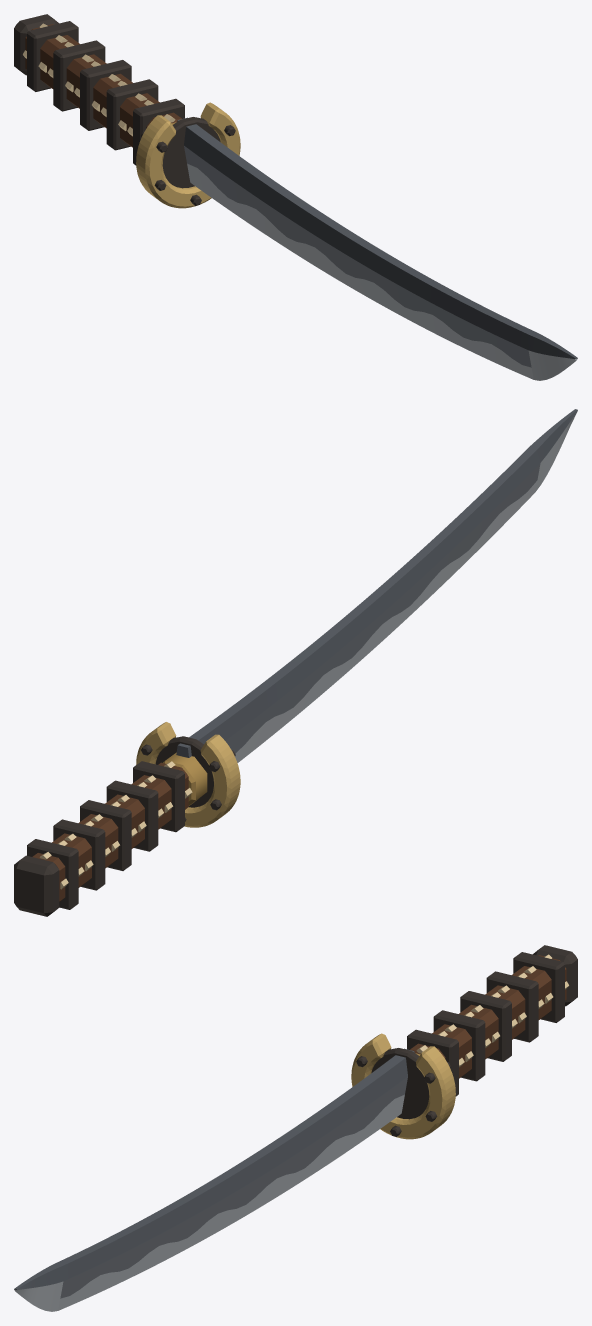
Rendered from w_katana@katana_dust.glb.
3 views of the same model, one above another, from view 1: azimuth 30°, elevation 25°; view 2: azimuth 150°, elevation 25°; view 3: azimuth 330°, elevation 25° (orthographic).
Visible parts, largest first — view 1: kat_blade_wzB__spine__p565b62, kat_trims_wzN__metal__p3b3531, kat_blade_wzB__edge__pb5babf, kat_blade_wzB__steel__p767b82, kat_guard_wzN__brass2__pc4a463, kat_tsuka_wzA__wrap__p5a3a26, kat_guard_wzN__metal__p3b3531, kat_tsuka_wzN__stitch__pd8c39a, kat_tsuka_wzN__metal__p3b3531; view 2: kat_blade_wzB__spine__p565b62, kat_trims_wzN__metal__p3b3531, kat_blade_wzB__edge__pb5babf, kat_blade_wzB__steel__p767b82, kat_tsuka_wzA__wrap__p5a3a26, kat_guard_wzN__brass2__pc4a463, kat_tsuka_wzN__metal__p3b3531, kat_guard_wzN__metal__p3b3531, kat_tsuka_wzN__stitch__pd8c39a, kat_guard_wzN__brass__pa8874a; view 3: kat_blade_wzB__spine__p565b62, kat_trims_wzN__metal__p3b3531, kat_blade_wzB__edge__pb5babf, kat_blade_wzB__steel__p767b82, kat_guard_wzN__brass2__pc4a463, kat_tsuka_wzA__wrap__p5a3a26, kat_guard_wzN__metal__p3b3531, kat_tsuka_wzN__stitch__pd8c39a, kat_tsuka_wzN__metal__p3b3531.
Part boxes in pixels (x1=…): kat_blade_wzB__spine__p565b62: x1=177, y1=117, x2=577, y2=359; kat_trims_wzN__metal__p3b3531: x1=27, y1=21, x2=184, y2=165; kat_blade_wzB__edge__pb5babf: x1=187, y1=163, x2=577, y2=380; kat_blade_wzB__steel__p767b82: x1=184, y1=146, x2=531, y2=367; kat_guard_wzN__brass2__pc4a463: x1=136, y1=102, x2=240, y2=208; kat_tsuka_wzA__wrap__p5a3a26: x1=25, y1=24, x2=181, y2=147; kat_guard_wzN__metal__p3b3531: x1=141, y1=117, x2=235, y2=205; kat_tsuka_wzN__stitch__pd8c39a: x1=23, y1=23, x2=175, y2=136; kat_tsuka_wzN__metal__p3b3531: x1=14, y1=14, x2=58, y2=75; kat_blade_wzB__spine__p565b62: x1=176, y1=409, x2=577, y2=757; kat_trims_wzN__metal__p3b3531: x1=27, y1=761, x2=184, y2=909; kat_blade_wzB__edge__pb5babf: x1=235, y1=411, x2=577, y2=762; kat_blade_wzB__steel__p767b82: x1=225, y1=463, x2=540, y2=753; kat_tsuka_wzA__wrap__p5a3a26: x1=32, y1=762, x2=188, y2=901; kat_guard_wzN__brass2__pc4a463: x1=136, y1=722, x2=240, y2=827; kat_tsuka_wzN__metal__p3b3531: x1=14, y1=855, x2=59, y2=916; kat_guard_wzN__metal__p3b3531: x1=141, y1=736, x2=235, y2=821; kat_tsuka_wzN__stitch__pd8c39a: x1=39, y1=761, x2=192, y2=889; kat_guard_wzN__brass__pa8874a: x1=163, y1=752, x2=207, y2=805; kat_blade_wzB__spine__p565b62: x1=14, y1=1048, x2=414, y2=1290; kat_trims_wzN__metal__p3b3531: x1=407, y1=952, x2=564, y2=1096; kat_blade_wzB__edge__pb5babf: x1=14, y1=1094, x2=404, y2=1311; kat_blade_wzB__steel__p767b82: x1=60, y1=1077, x2=407, y2=1298; kat_guard_wzN__brass2__pc4a463: x1=351, y1=1033, x2=455, y2=1139; kat_tsuka_wzA__wrap__p5a3a26: x1=410, y1=955, x2=566, y2=1078; kat_guard_wzN__metal__p3b3531: x1=356, y1=1048, x2=450, y2=1136; kat_tsuka_wzN__stitch__pd8c39a: x1=416, y1=954, x2=568, y2=1067; kat_tsuka_wzN__metal__p3b3531: x1=533, y1=945, x2=577, y2=1006.
Size of the model in its own units: 0.0976 by 0.1267 by 0.9667.
